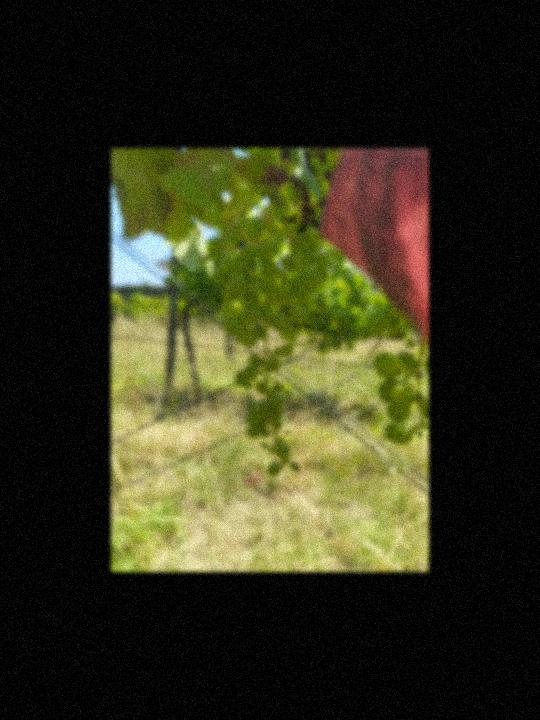grape: (201, 183, 337, 482), (261, 149, 341, 236)
